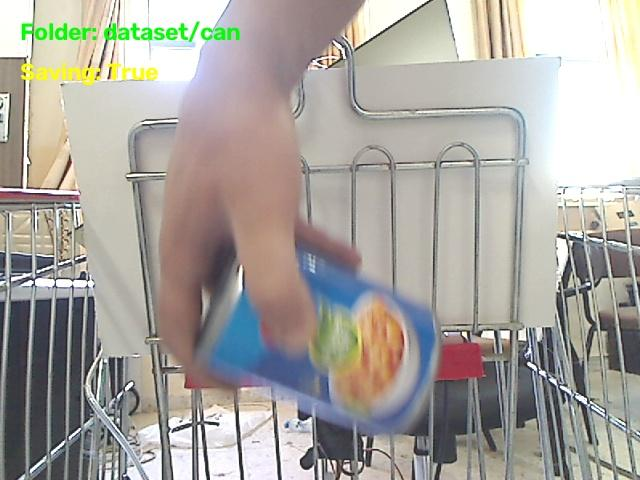can: (203, 251, 439, 431)
